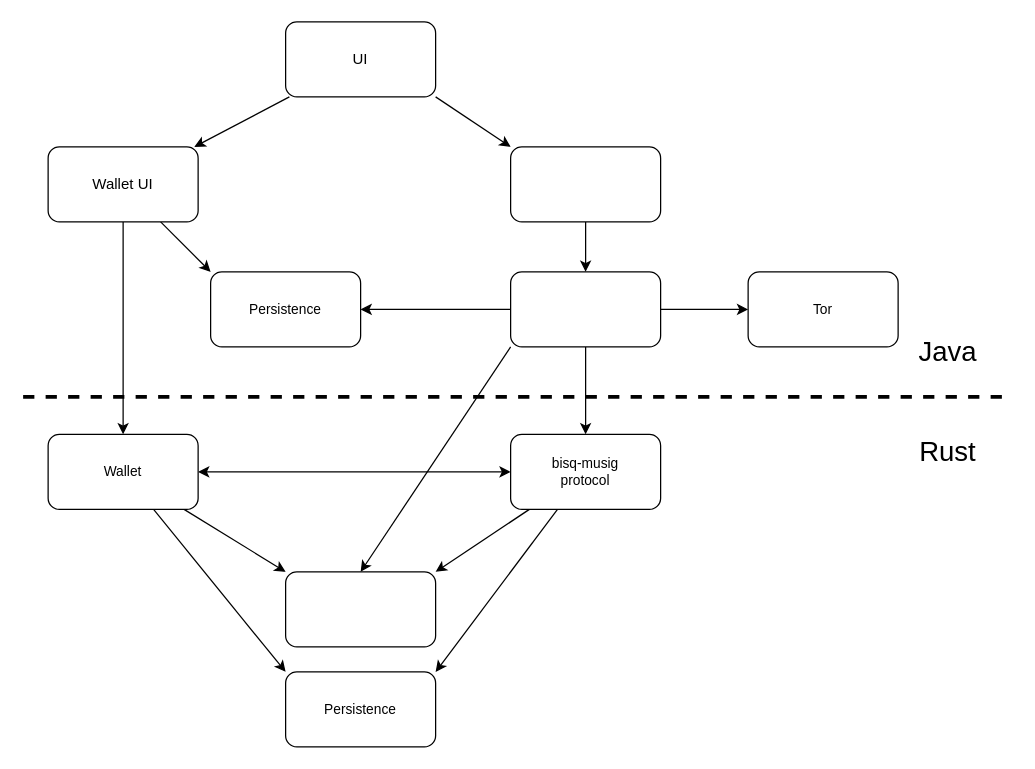
This 1035x769 diagram has some shape labels left out. The centre of each missing label's shape, as x and y in pixels:
"chain access" belongs at (360,609).
"Protocol Runner" belongs at (585,309).
"Protocol UI" belongs at (585,184).
